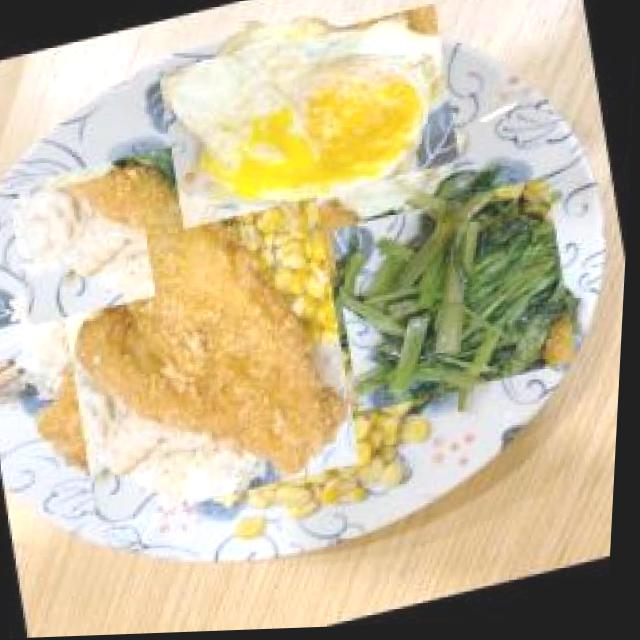fried_chicken: (12, 133, 397, 514)
fried_eggs: (152, 6, 469, 233)
rice: (5, 170, 166, 327)
water_spinach: (326, 181, 590, 418)
